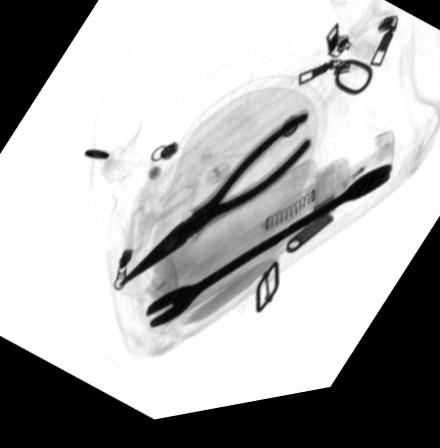Pliers: (115, 122, 309, 293)
Wrench: (144, 176, 394, 335)
